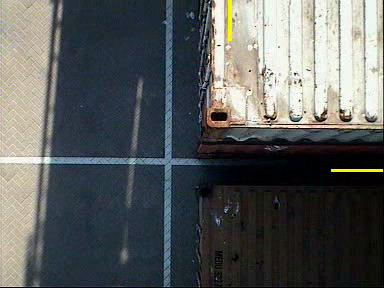groundmarker_2: (193, 1, 227, 58), (190, 171, 224, 227)
